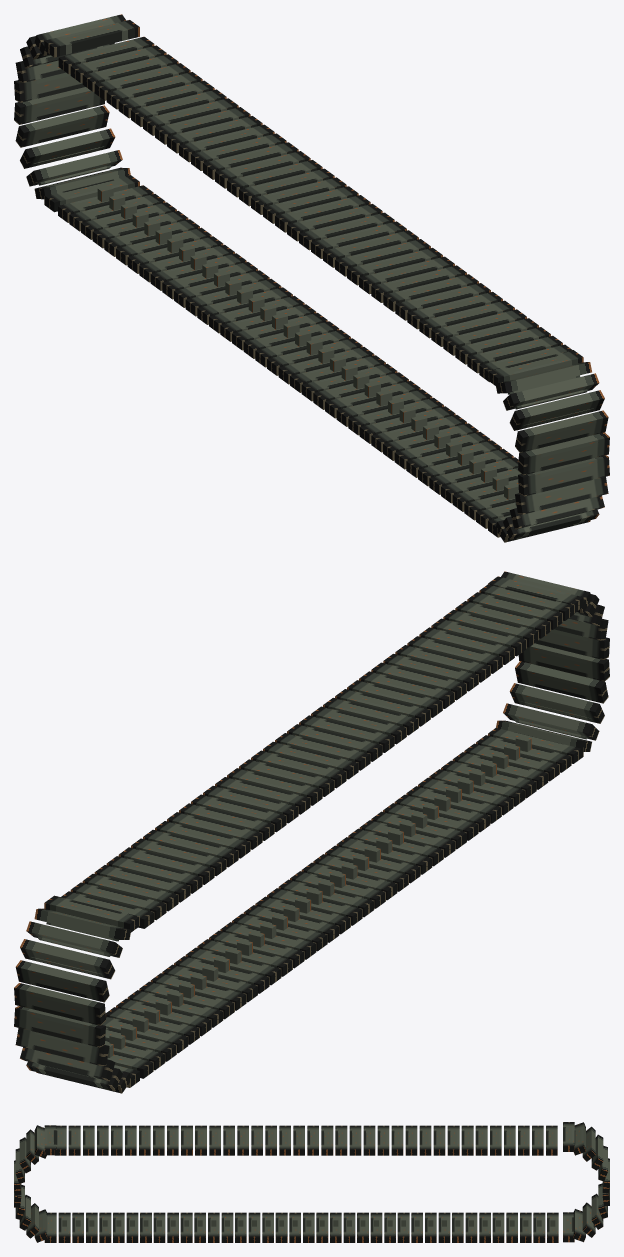
3 views of the same model, one above another, from view 1: azimuth 30°, elevation 25°; view 2: azimuth 150°, elevation 25°; view 3: azimuth 270°, elevation 25° (orthographic). The views are drawn at different scales.
Visible parts, largest first — view 1: TrackL_mesh; view 2: TrackL_mesh; view 3: TrackL_mesh.
Boxes of the visible parts, x1,y1,x2,y2 form: TrackL_mesh: (14, 14, 609, 542); TrackL_mesh: (14, 571, 609, 1093); TrackL_mesh: (14, 1122, 609, 1242).
Size of the model in its own units: 0.58 by 1.09 by 5.98.
Materials: 1 (1 with a texture image).
